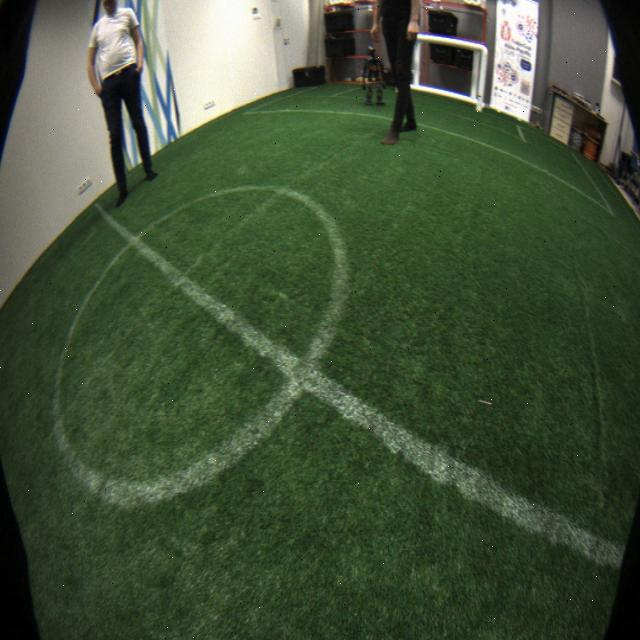goalpost: (476, 45, 488, 111)
